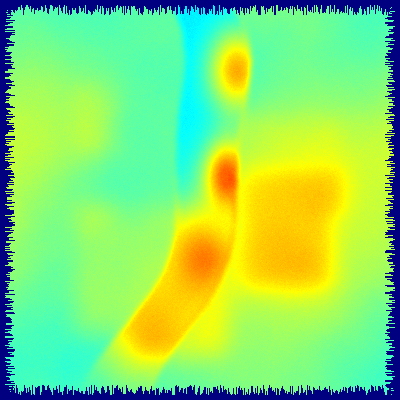algal_bloom: (0, 0, 266, 142), (0, 152, 74, 251), (94, 232, 139, 247)
thermal_plume: (191, 188, 249, 249)
